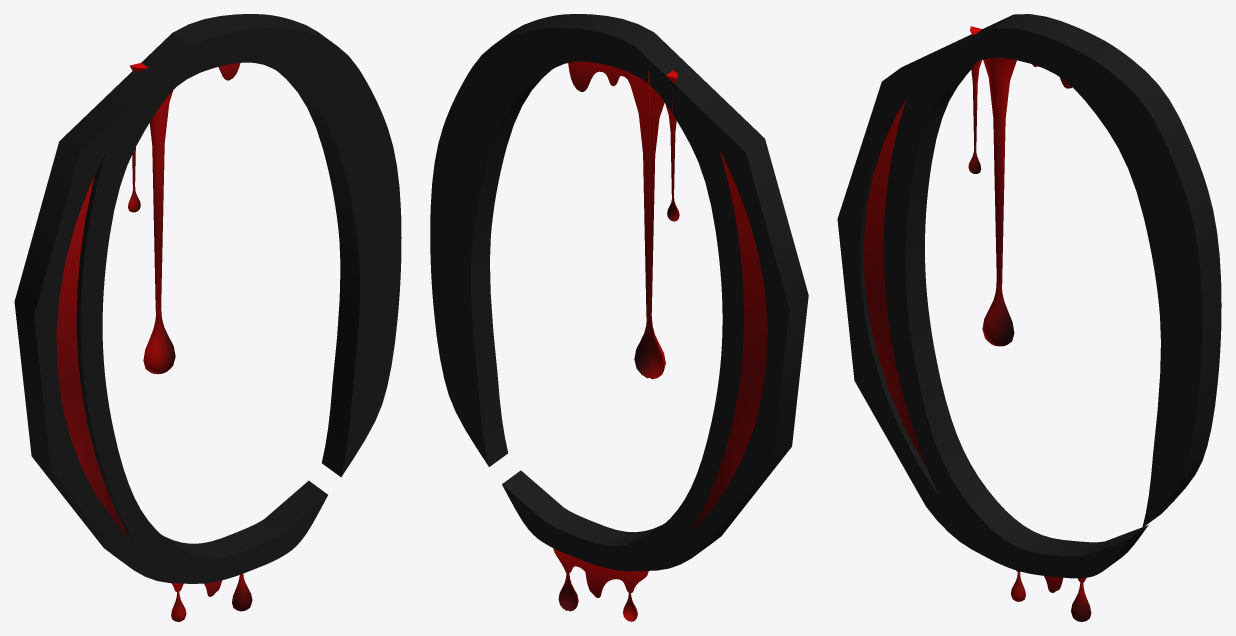
The picture shows the model from 3 angles, left to right: view 1: azimuth 30°, elevation 25°; view 2: azimuth 150°, elevation 25°; view 3: azimuth 330°, elevation 25°; orthographic projection. The views are drawn at different scales.
Parts seen in each view (by area): view 1: O, O_Element, Blood_359, Blood_375; view 2: O, O_Element, Blood_359, Blood_375, Blood_340, Blood_371; view 3: O, O_Element, Blood_359, Blood_375, Blood_371.
Boxes of the visible parts, x1,y1,x2,y2 form: O: [14, 14, 401, 583]; O_Element: [56, 176, 129, 538]; Blood_359: [130, 63, 175, 374]; Blood_375: [171, 574, 252, 621]; O: [430, 14, 808, 571]; O_Element: [690, 149, 767, 533]; Blood_359: [628, 70, 677, 379]; Blood_375: [553, 548, 648, 621]; Blood_340: [568, 61, 629, 91]; Blood_371: [664, 99, 679, 221]; O: [837, 14, 1221, 578]; O_Element: [863, 98, 927, 468]; Blood_359: [970, 26, 1016, 346]; Blood_375: [1011, 570, 1091, 621]; Blood_371: [968, 60, 981, 173].
Bounding box in the file's own units: 54.34 × 84.82 × 5.05.
Materials: 2 (1 with a texture image).
